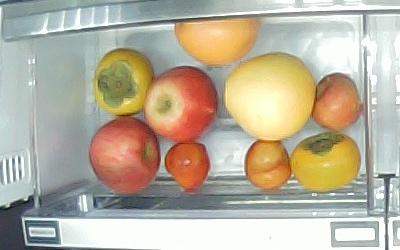apple: (143, 66, 219, 143), (88, 117, 162, 195)
grapefruit: (224, 53, 316, 141), (175, 18, 260, 67)
persimmon: (290, 131, 361, 193), (93, 50, 155, 118)
prune: (310, 73, 362, 130), (243, 141, 290, 191), (164, 141, 210, 192)
